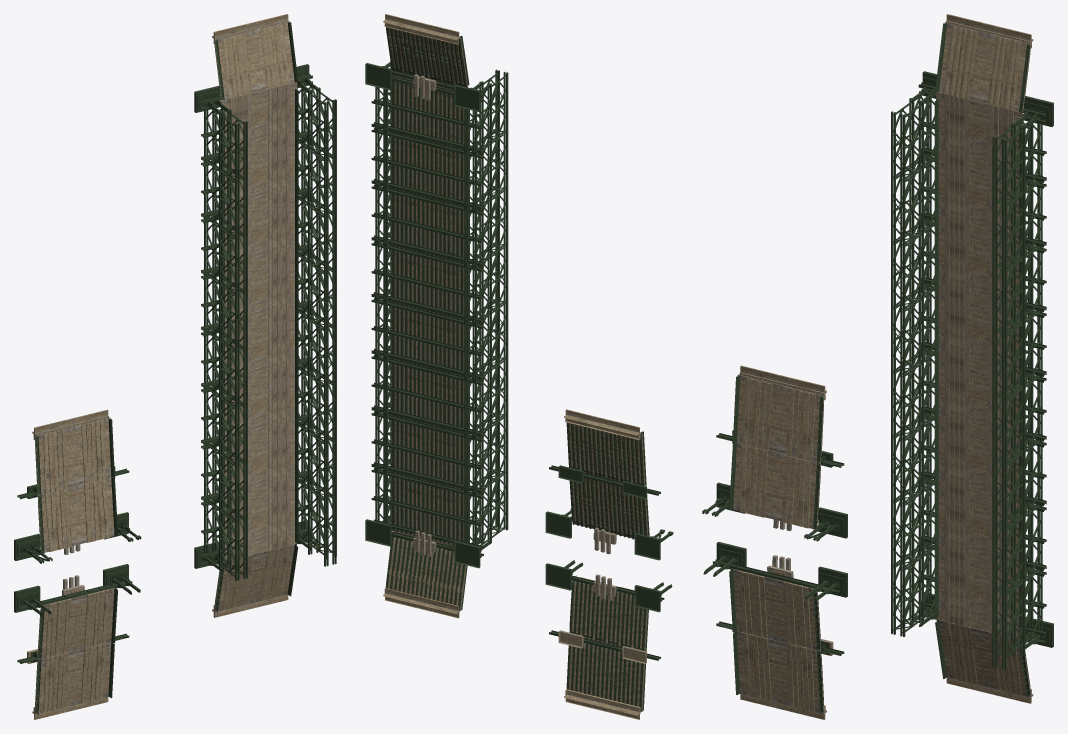
Rendered from Bridge_10_V02.fbx.
The picture shows the model from 3 angles, left to right: view 1: azimuth 30°, elevation 25°; view 2: azimuth 150°, elevation 25°; view 3: azimuth 330°, elevation 25°; orthographic projection. The views are drawn at different scales.
Visible parts, largest first — view 1: polySurface2666 (×8), polySurface2568 (×8), group19, polySurface2886 (×2), group18, polySurface2557 (×8), polySurface2591 (×7), polySurface54 (×2), polySurface21, polySurface45; view 2: polySurface2666 (×8), polySurface2568 (×8), polySurface54 (×2), polySurface21, polySurface45, group18, polySurface2886 (×2), group19, pCube72 (×8), pCube74 (×7), polySurface2557 (×4), polySurface31 (+4 smaller); view 3: polySurface2666 (×8), polySurface2591 (×8), group19, polySurface2568 (×8), polySurface2886 (×2), group18, polySurface21, polySurface54 (×2), polySurface45, polySurface2557 (×2).
Part boxes in pixels (box(x1,y1,x2,y2)): polySurface2666 (×8): box(221, 82, 297, 561); polySurface2568 (×8): box(204, 102, 247, 581); group19: box(32, 409, 114, 554); polySurface2886 (×2): box(212, 14, 296, 617); group18: box(32, 575, 116, 719); polySurface2557 (×8): box(301, 88, 336, 566); polySurface2591 (×7): box(297, 81, 336, 559); polySurface54 (×2): box(194, 22, 320, 613); polySurface21: box(17, 569, 140, 715); polySurface45: box(17, 417, 141, 563); polySurface2666 (×8): box(392, 75, 464, 546); polySurface2568 (×8): box(464, 69, 508, 545); polySurface54 (×2): box(365, 19, 491, 612); polySurface21: box(549, 560, 672, 711); polySurface45: box(549, 422, 673, 542); group18: box(564, 574, 647, 719); polySurface2886 (×2): box(383, 14, 468, 618); group19: box(564, 409, 648, 554); pCube72 (×8): box(371, 99, 483, 526); pCube74 (×7): box(371, 122, 483, 492); polySurface2557 (×4): box(375, 137, 392, 481); polySurface31: box(634, 533, 660, 560); polySurface2666 (×8): box(936, 92, 1022, 639); polySurface2591 (×8): box(992, 115, 1042, 661); group19: box(733, 365, 826, 530); polySurface2568 (×8): box(891, 90, 936, 636); polySurface2886 (×2): box(936, 14, 1033, 703); group18: box(730, 555, 826, 719); polySurface21: box(703, 548, 844, 714); polySurface54 (×2): box(909, 23, 1053, 703); polySurface45: box(702, 374, 844, 541); polySurface2557 (×2): box(992, 444, 1042, 670).
Size of the model in its own units: 1629 by 3411 by 362.
2 materials, 2 textured.
